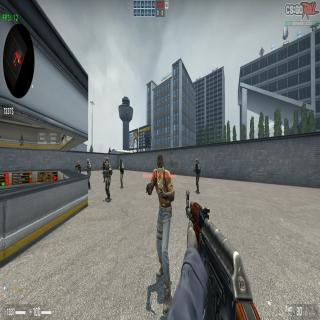CT-Body: (103, 157, 112, 202), (193, 159, 201, 194), (85, 159, 91, 190), (118, 158, 124, 188), (102, 160, 106, 183)
CT-Head: (105, 157, 109, 165), (195, 158, 198, 164), (120, 158, 122, 164), (87, 159, 89, 165), (103, 160, 105, 164)
T-Body: (146, 152, 174, 302), (76, 160, 81, 173)
T-Head: (157, 153, 164, 176), (78, 160, 79, 165)
